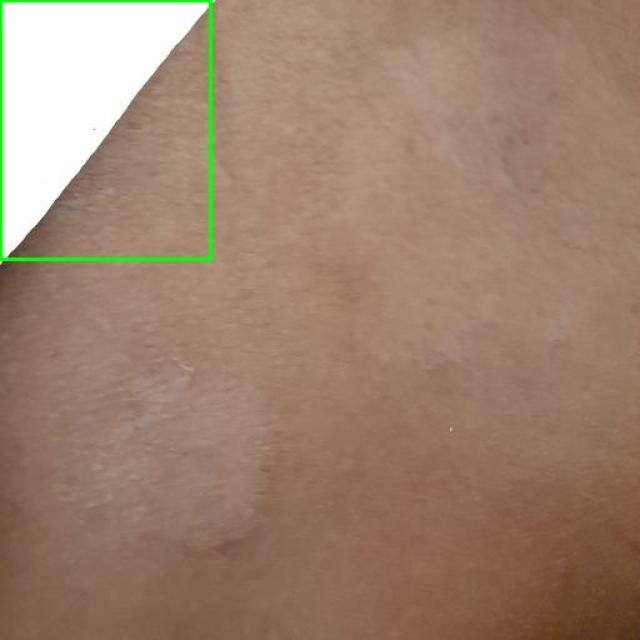Tinea Corporis: (0, 0, 210, 259)
